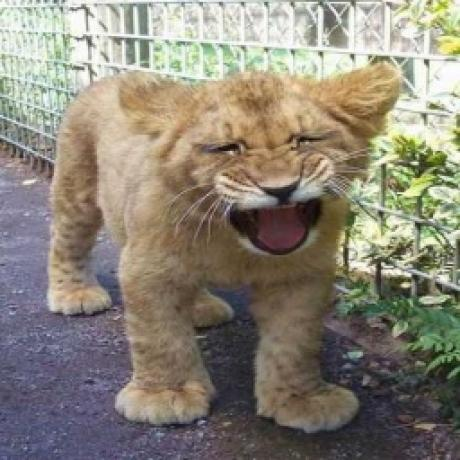Lion: (44, 61, 400, 436)
